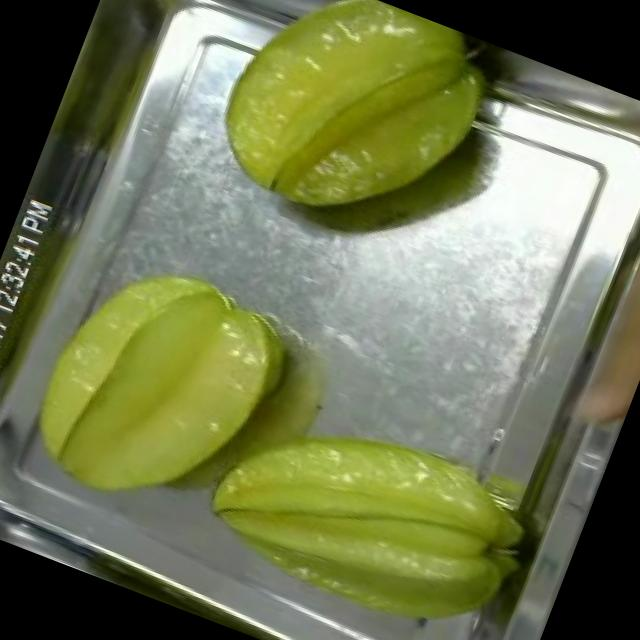fruit: (172, 365, 559, 640), (3, 225, 311, 550), (187, 0, 516, 269), (536, 136, 640, 449)
